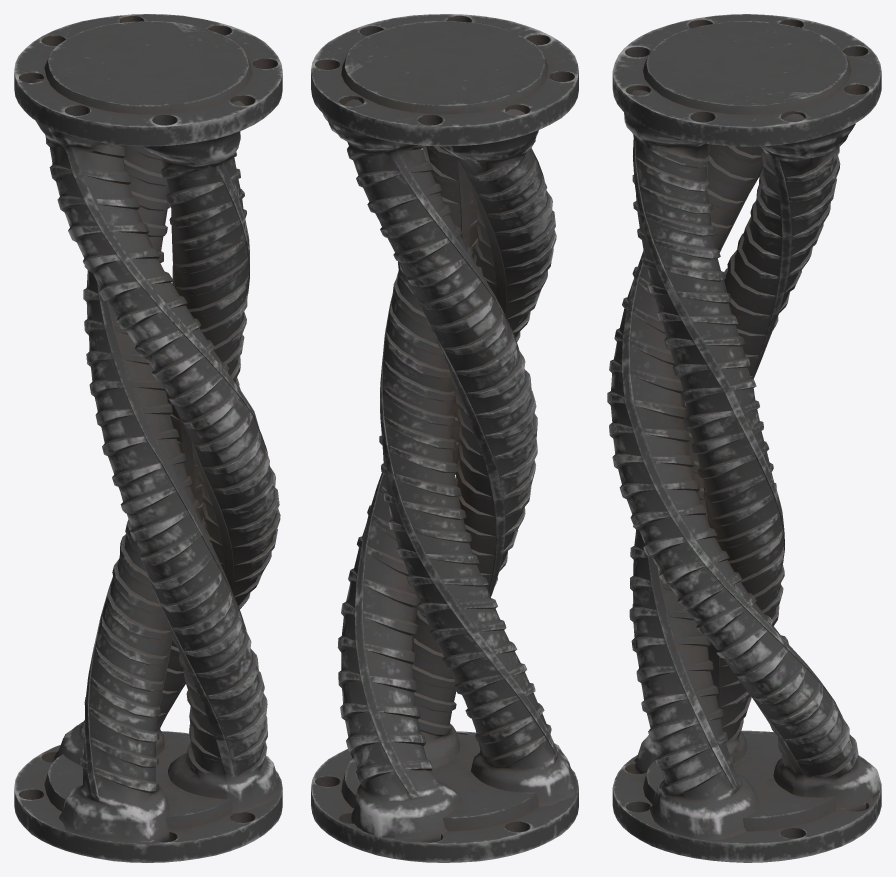
The model's file is Neck_Hammer_3.glb.
The picture shows the model from 3 angles, left to right: view 1: azimuth 30°, elevation 25°; view 2: azimuth 150°, elevation 25°; view 3: azimuth 270°, elevation 25°; orthographic projection.
Visible parts, largest first — view 1: Neck_Hammer_3_LOD0; view 2: Neck_Hammer_3_LOD0; view 3: Neck_Hammer_3_LOD0.
Boxes of the visible parts, x1,y1,x2,y2 form: Neck_Hammer_3_LOD0: (14,14,282,862); Neck_Hammer_3_LOD0: (311,14,578,862); Neck_Hammer_3_LOD0: (607,14,881,862).
Bounding box in the file's own units: 0.0576 × 0.1782 × 0.0588.
Materials: 1 (1 with a texture image).
